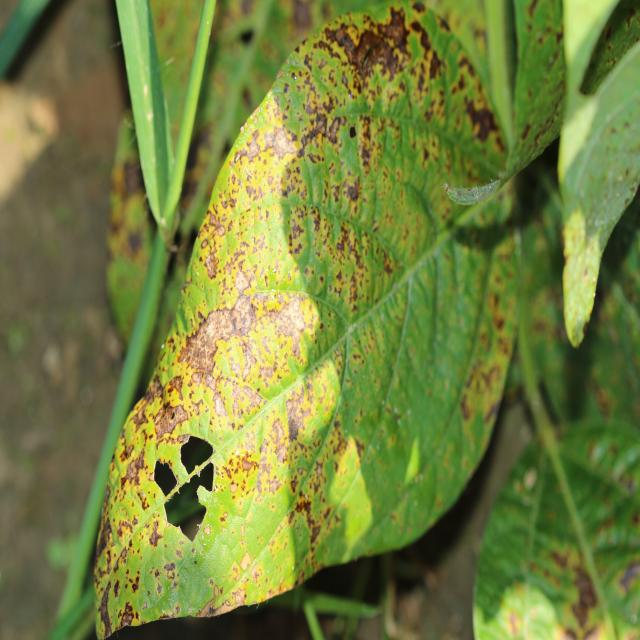Bacterial_Blight: (179, 291, 312, 400), (291, 206, 386, 313), (227, 126, 306, 223), (327, 9, 401, 89), (181, 305, 236, 376), (297, 106, 351, 160), (466, 355, 504, 416), (222, 446, 260, 501), (323, 22, 361, 71), (146, 557, 181, 606), (259, 123, 298, 164), (248, 281, 284, 324), (465, 97, 498, 142), (375, 7, 408, 51), (153, 398, 186, 440), (235, 102, 266, 137), (231, 293, 257, 333), (237, 285, 294, 301), (98, 582, 114, 637), (95, 510, 113, 558), (122, 452, 143, 487), (131, 398, 152, 431), (345, 62, 363, 94), (165, 379, 184, 409), (124, 561, 141, 594), (206, 210, 225, 239), (118, 599, 136, 627), (244, 134, 261, 160), (234, 268, 252, 292), (116, 518, 133, 543), (204, 252, 219, 280), (294, 494, 312, 517), (148, 520, 163, 547), (308, 519, 322, 546), (113, 548, 127, 574), (344, 180, 360, 202), (240, 455, 257, 474), (275, 441, 287, 463), (191, 397, 204, 416), (164, 561, 176, 574), (113, 579, 121, 597), (195, 520, 203, 532), (212, 483, 220, 493), (348, 91, 353, 99), (235, 449, 240, 456), (161, 343, 165, 349)
Soybean: (95, 5, 519, 636)
